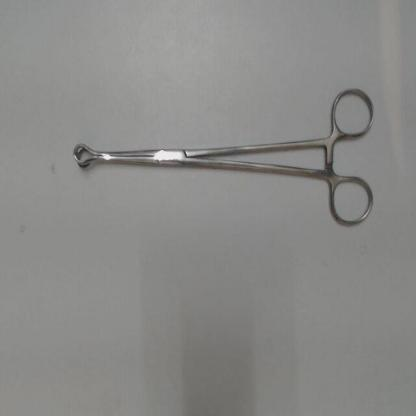8 Babcock Tissue Forceps: (69, 80, 379, 235)
